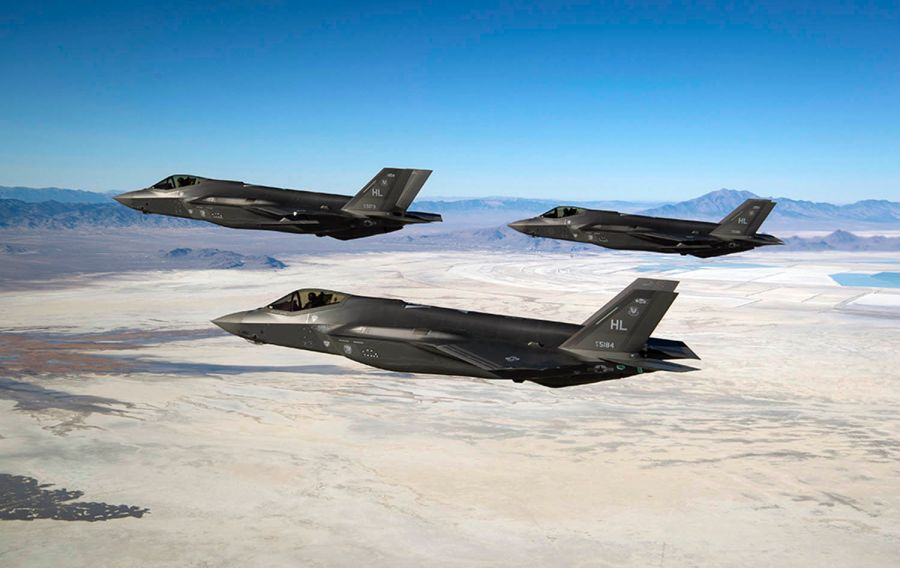F-35 Lightning: (209, 263, 732, 412), (103, 143, 451, 254), (500, 171, 800, 279)
